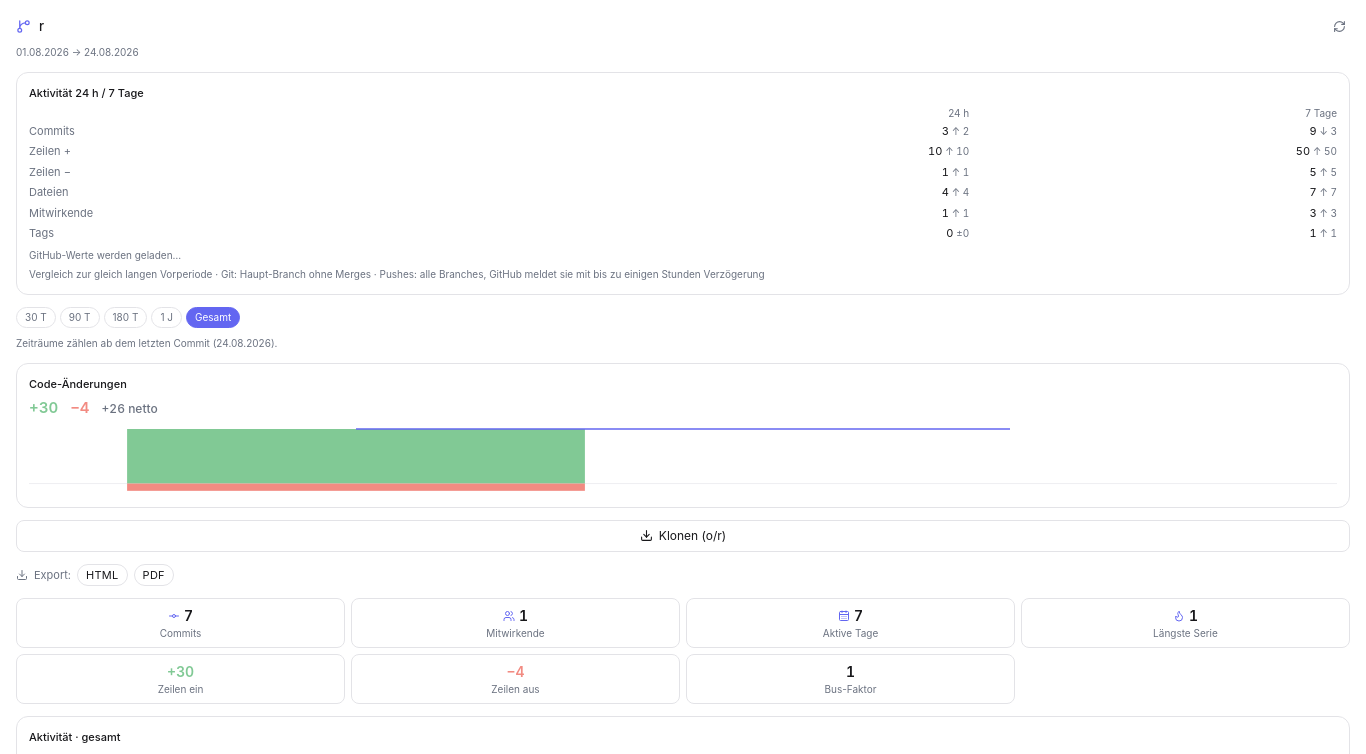
Scenario: RepoPanel › titles activity by the chosen range, never by a month count
Click the button "90 T": (80, 317) [60, 306, 100, 328]
(page scrolled)
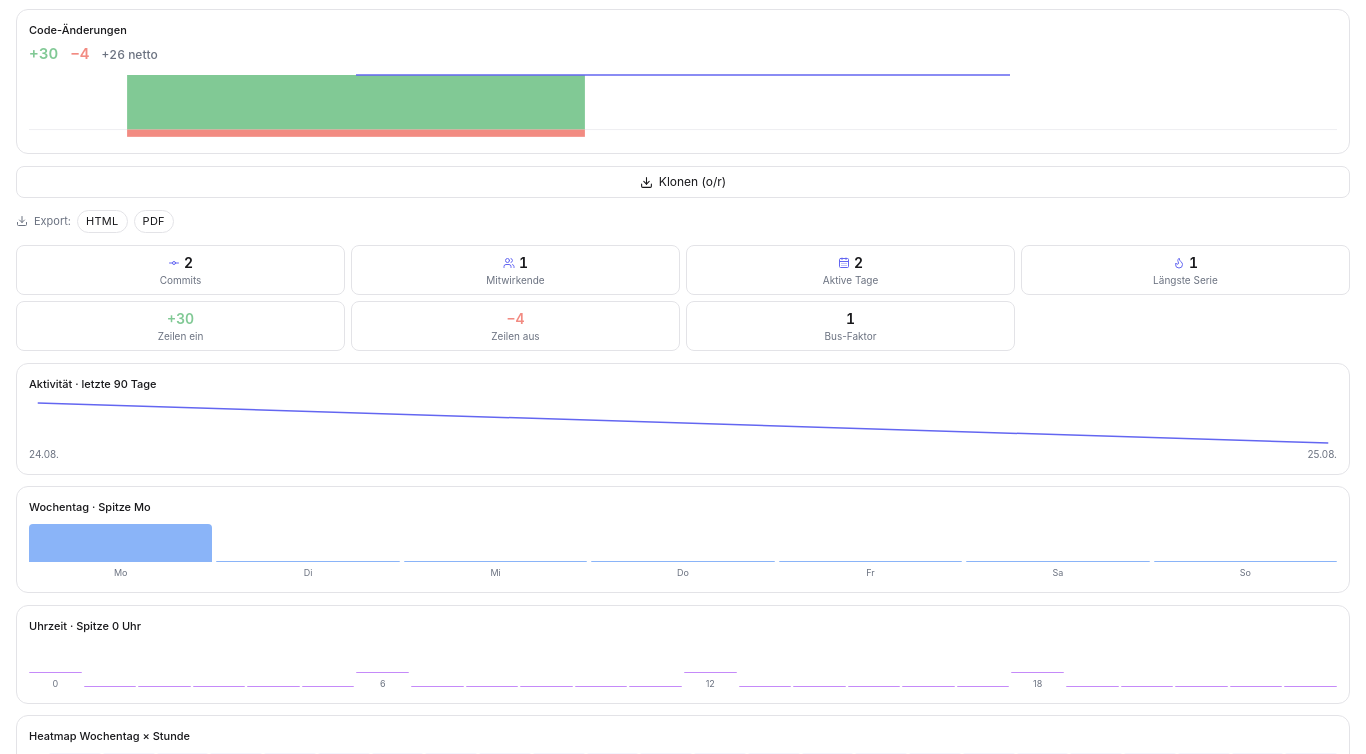
Result: the text "Aktivität · letzte 90 Tage" is shown at [29, 376, 157, 390]
